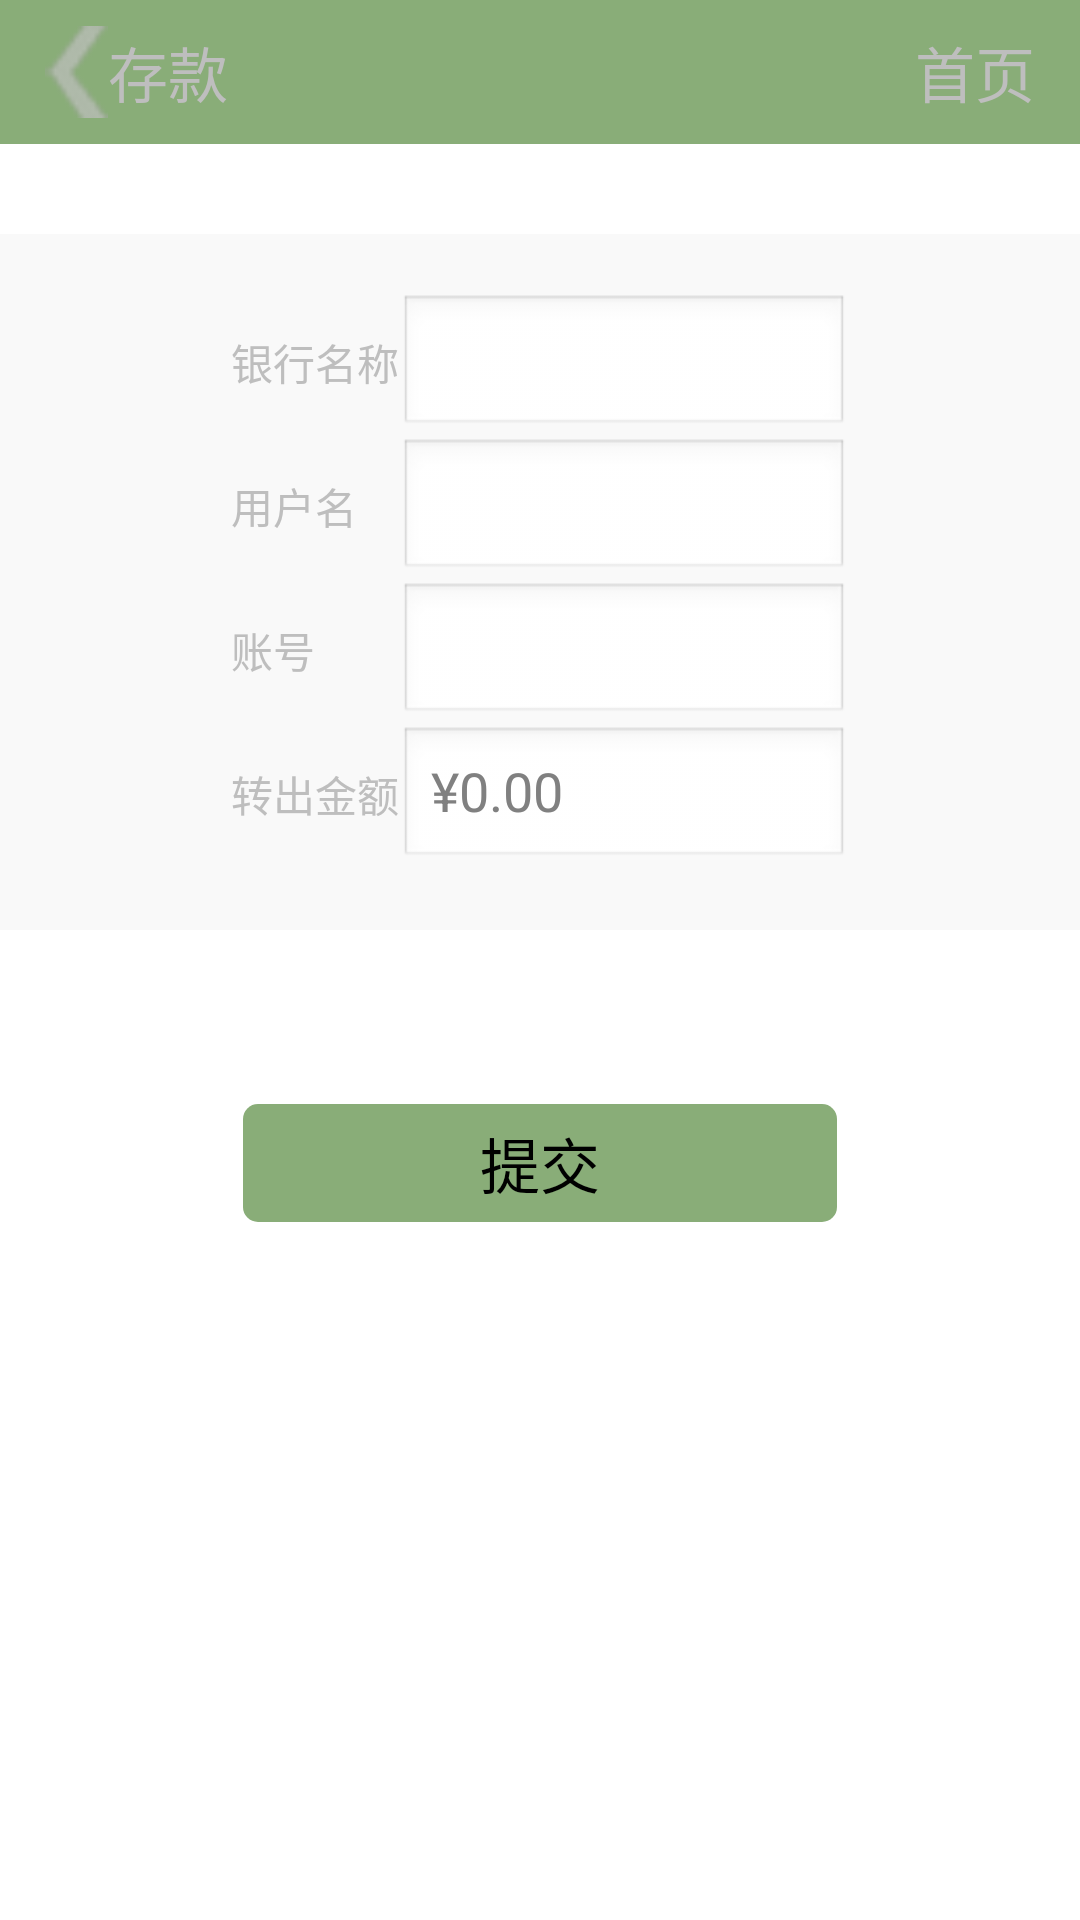

Icons on this 1080 x 1920 Android screen, each with its box as (x1,y1,x2,y2):
arrow left: (50,26,105,118)
